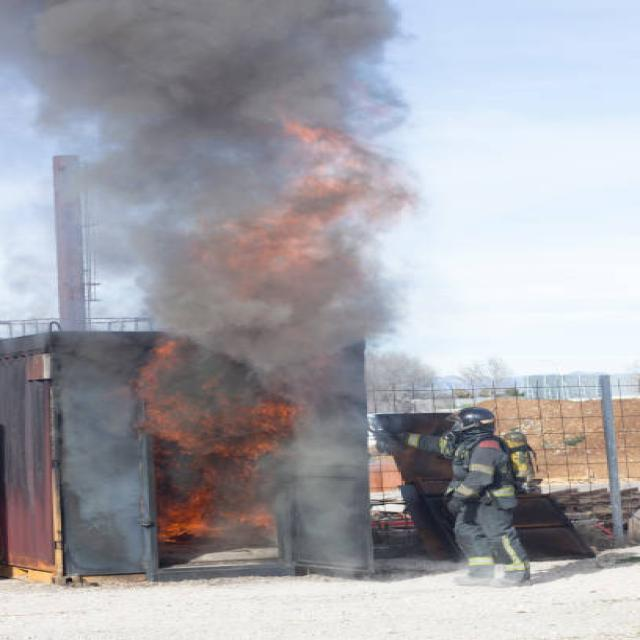Fire: (146, 148, 394, 536)
Smoke: (22, 0, 450, 435)
